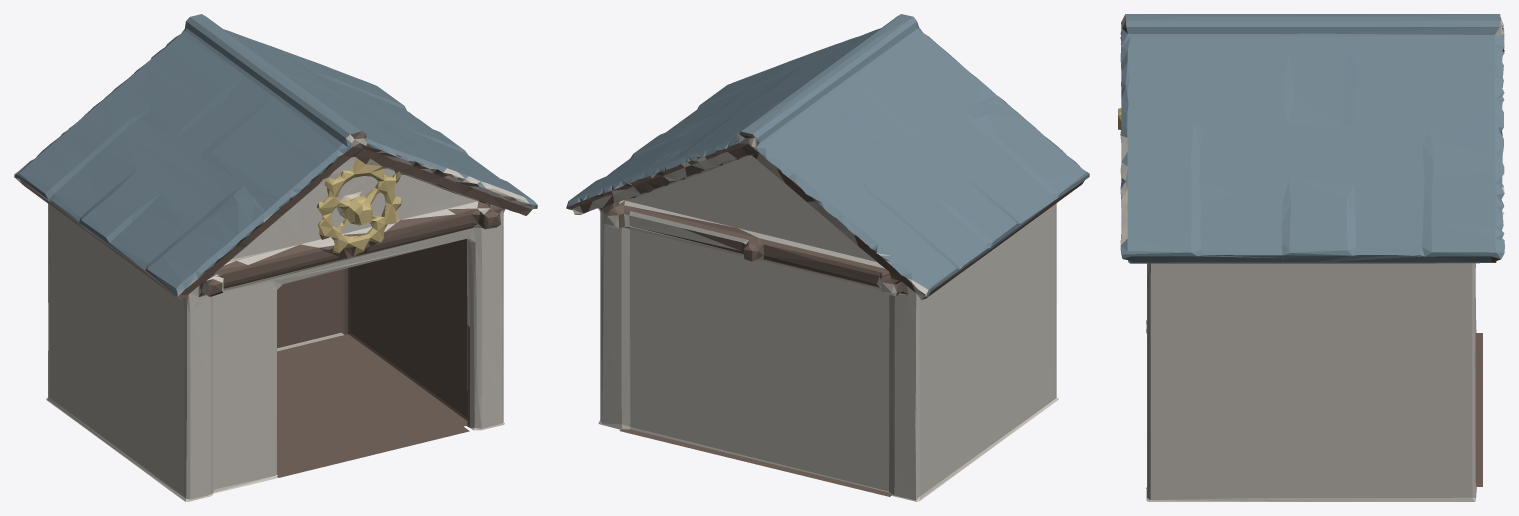
3 renders of one model, left to right at view 1: azimuth 30°, elevation 25°; view 2: azimuth 150°, elevation 25°; view 3: azimuth 270°, elevation 25°, orthographic. The views are drawn at different scales.
Parts seen in each view (by area): view 1: geometry_0; view 2: geometry_0; view 3: geometry_0.
Part boxes in pixels (<box>): geometry_0: <box>14,14,537,501</box>; geometry_0: <box>566,14,1089,501</box>; geometry_0: <box>1118,14,1504,501</box>.
Size of the model in its own units: 0.9514 by 0.851 by 0.7567.
